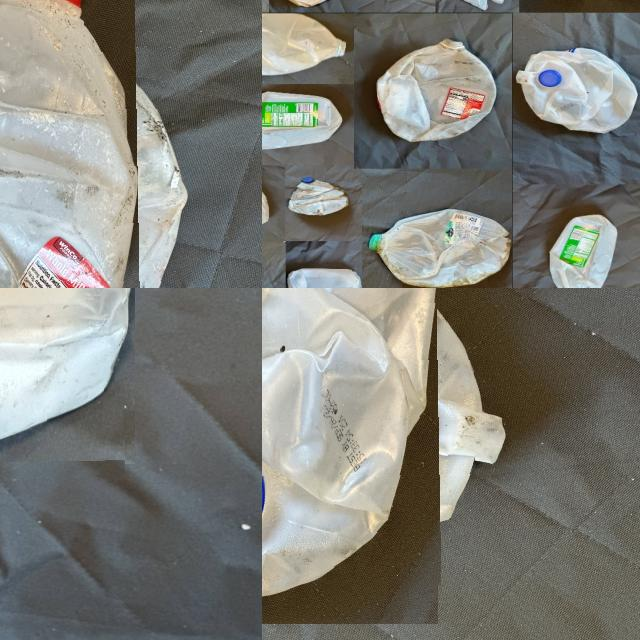milk-jug: (262, 288, 475, 589), (0, 0, 164, 288), (0, 288, 123, 478), (377, 34, 502, 142), (365, 205, 505, 288), (524, 40, 638, 134), (545, 211, 621, 288), (262, 88, 346, 155), (262, 10, 346, 76), (281, 173, 349, 224), (287, 263, 366, 288), (262, 172, 276, 229)
